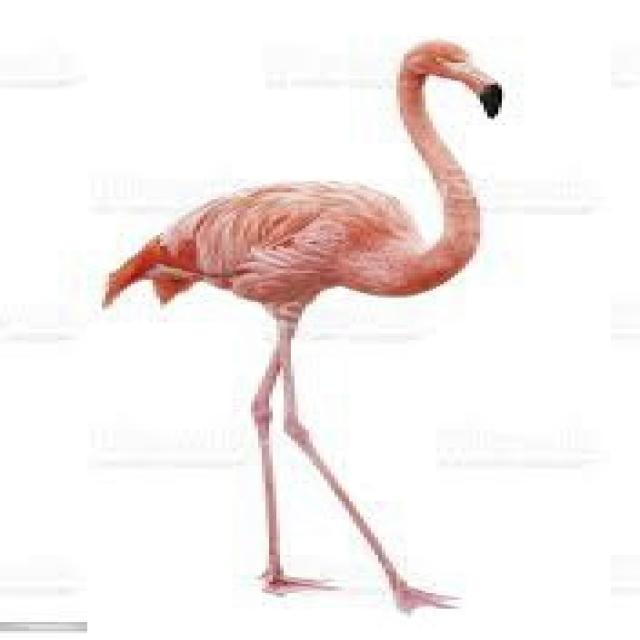flamingo: (102, 40, 498, 609)
